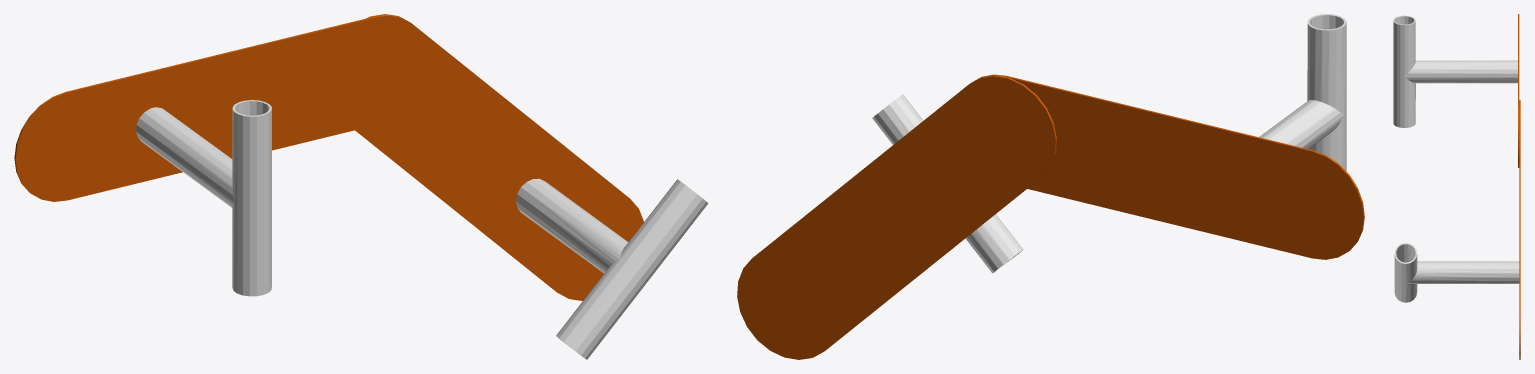
The model's file is PathMarker.dae.
The picture shows the model from 3 angles, left to right: view 1: azimuth 30°, elevation 25°; view 2: azimuth 150°, elevation 25°; view 3: azimuth 270°, elevation 25°; orthographic projection. The views are drawn at different scales.
Visible parts, largest first — view 1: PathMarker; view 2: PathMarker; view 3: PathMarker.
Boxes of the visible parts, bbox=[...] form: PathMarker: bbox=[14, 14, 708, 359]; PathMarker: bbox=[737, 14, 1364, 359]; PathMarker: bbox=[1393, 14, 1520, 359].
Size of the model in its own units: 0.9327 by 0.2856 by 0.5263.
